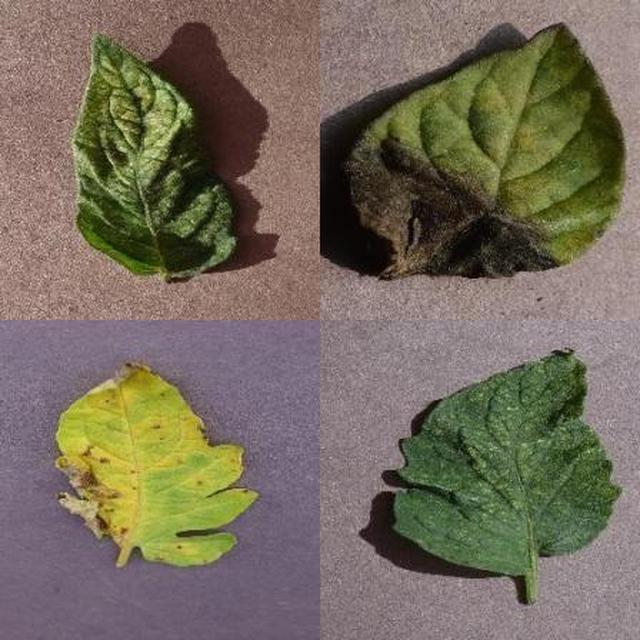Spider Mites Leaf: (219, 216, 640, 640)
